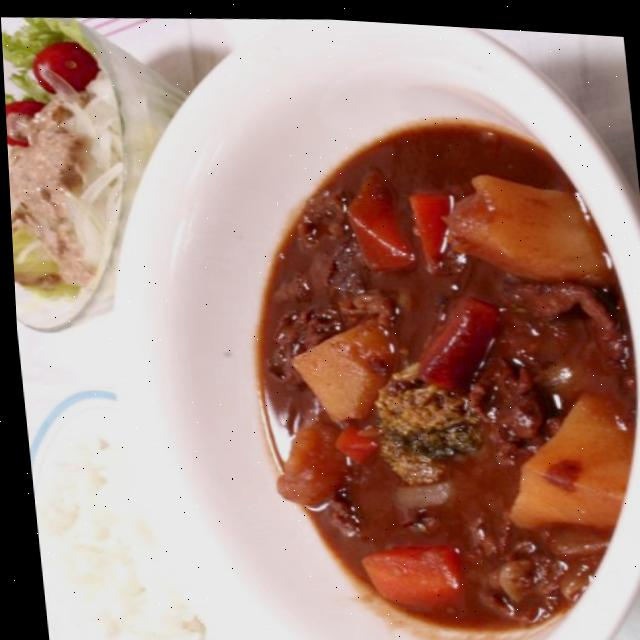汤锅炖物: (68, 3, 640, 640)
